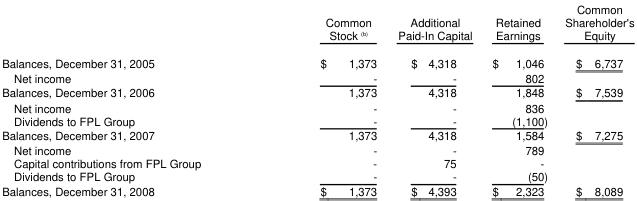table: (1, 0, 633, 198)
table column: (1, 0, 259, 198), (259, 0, 386, 198), (386, 0, 481, 198), (555, 0, 633, 198), (481, 0, 555, 198)
table column header: (1, 0, 633, 48)
table row: (1, 0, 633, 48), (1, 48, 633, 70), (1, 84, 633, 99), (1, 127, 633, 142), (1, 183, 633, 198), (1, 70, 633, 84), (1, 99, 633, 113), (1, 113, 633, 127), (1, 142, 633, 156), (1, 169, 633, 183), (1, 156, 633, 169)
